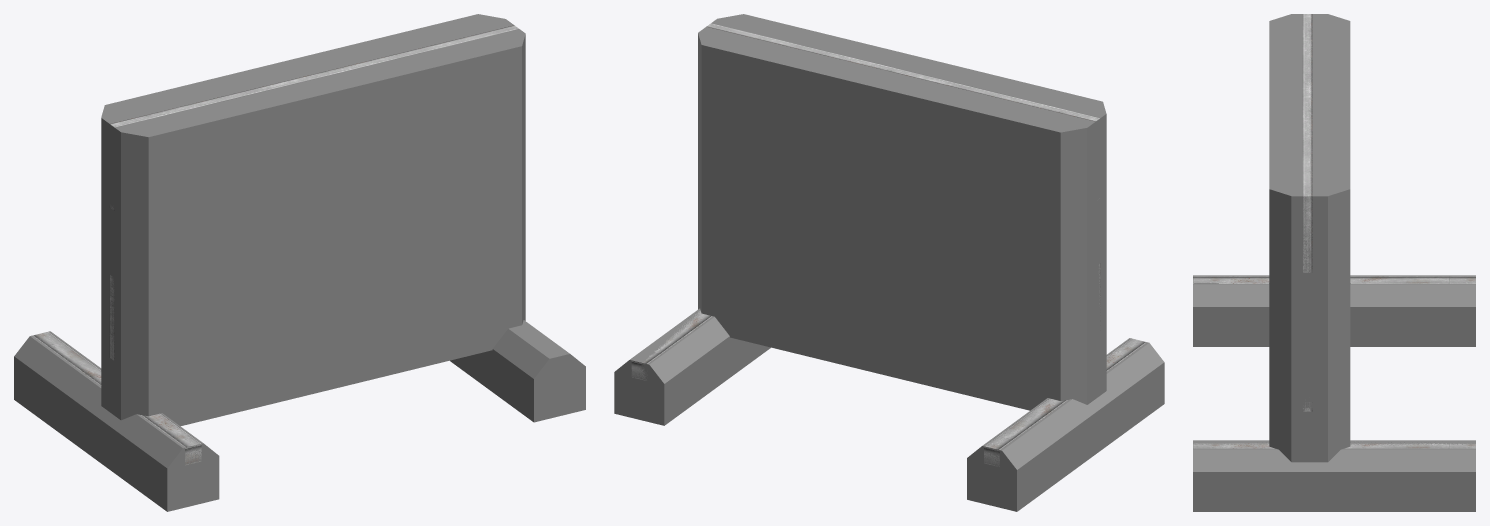
Rendered from construction_sign_big_a.DAE.
The picture shows the model from 3 angles, left to right: view 1: azimuth 30°, elevation 25°; view 2: azimuth 150°, elevation 25°; view 3: azimuth 270°, elevation 25°; orthographic projection. The views are drawn at different scales.
Visible parts, largest first — view 1: colmesh-1, Construction_sign_big_a200; view 2: colmesh-1, Construction_sign_big_a200; view 3: colmesh-1, Construction_sign_big_a200.
Boxes of the visible parts, box(x1,y1,x2,y2) form: colmesh-1: box(14, 14, 585, 511); Construction_sign_big_a200: box(32, 25, 519, 465); colmesh-1: box(614, 14, 1164, 511); Construction_sign_big_a200: box(631, 23, 1146, 466); colmesh-1: box(1193, 14, 1475, 511); Construction_sign_big_a200: box(1193, 14, 1475, 448).
Bounding box in the file's own units: 2.56 × 1.62 × 1.98.
